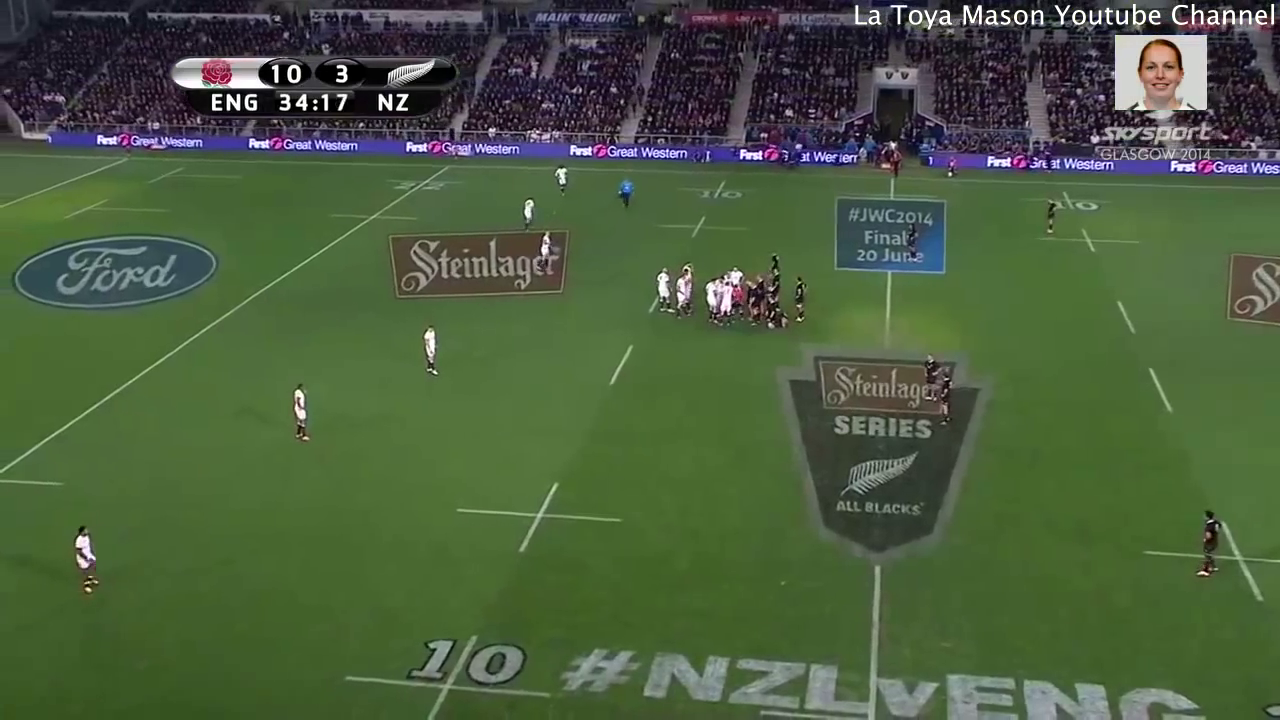10_metre: (339, 626, 559, 720), (445, 475, 636, 561), (1139, 513, 1280, 610), (1034, 224, 1145, 255), (650, 210, 758, 241), (672, 176, 774, 204), (1019, 187, 1115, 215)
player: (66, 517, 108, 601), (1190, 505, 1229, 588), (285, 376, 318, 450), (785, 267, 818, 332), (933, 365, 967, 427), (413, 320, 446, 383), (610, 169, 645, 221), (530, 228, 559, 284), (649, 259, 676, 318), (913, 348, 944, 396), (1038, 192, 1063, 248), (513, 188, 540, 236), (900, 215, 926, 263), (549, 160, 576, 202), (672, 271, 693, 322), (743, 277, 762, 330), (717, 279, 733, 337), (730, 281, 750, 324), (703, 277, 718, 330), (761, 293, 784, 326), (682, 261, 695, 317), (723, 262, 749, 289), (754, 271, 771, 302), (766, 247, 782, 277)
